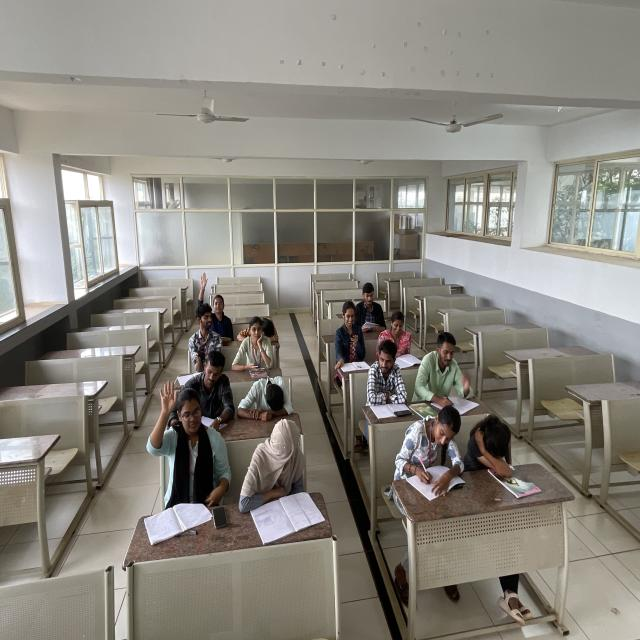Hand Rising: (148, 374, 233, 509), (195, 269, 232, 333)
Reading: (374, 309, 414, 363), (353, 280, 389, 336)
Sleeping: (466, 407, 517, 476), (235, 314, 283, 346)
Using Phone: (330, 299, 368, 380), (184, 300, 228, 366), (233, 317, 272, 375)
Writing: (392, 406, 471, 493), (162, 351, 238, 432), (414, 334, 479, 415)
